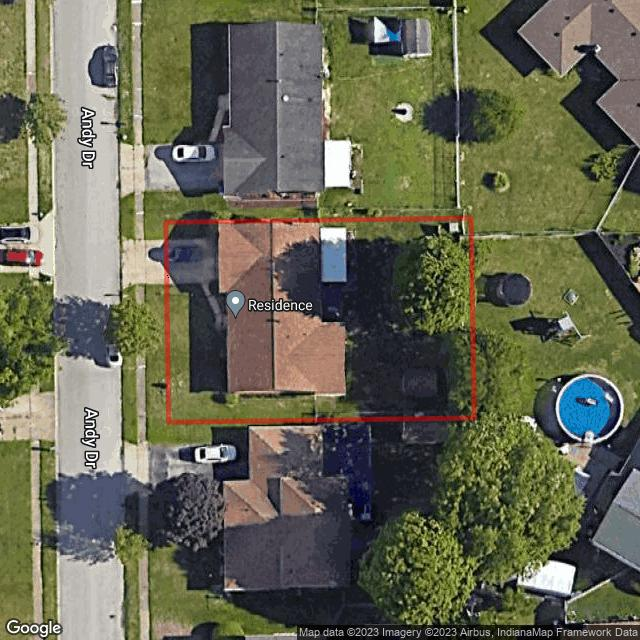Driveway: (167, 238, 218, 284)
Extra Driveway: (120, 235, 165, 291)
Extra Lawn: (144, 284, 167, 423), (121, 284, 137, 422), (144, 220, 164, 240), (120, 219, 135, 240)
Extra Sidewalk: (136, 285, 146, 422), (135, 219, 145, 240)
House: (219, 224, 345, 394)
Other: (320, 228, 346, 282), (402, 369, 438, 397)
Sidewalk: (202, 281, 227, 332)
